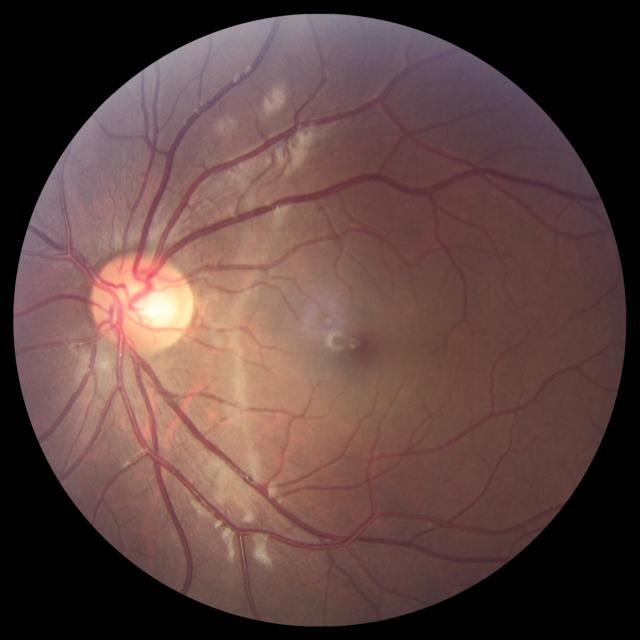OC: (120, 283, 172, 333)
OD: (90, 251, 194, 355)
